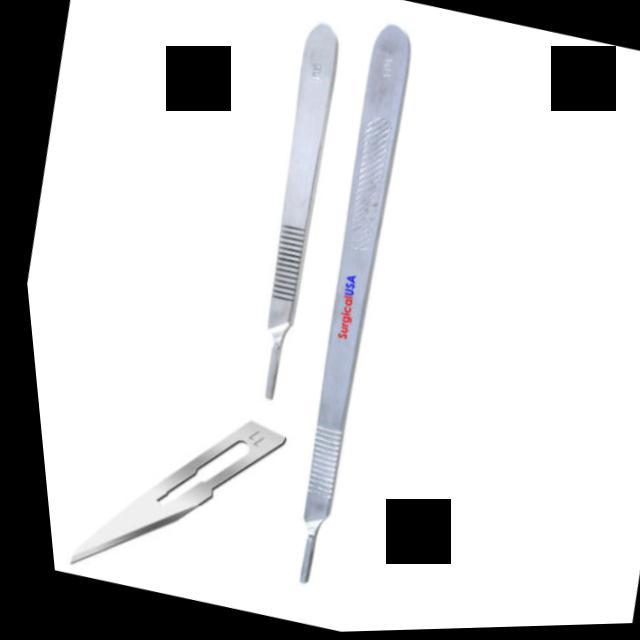Knife handle: (219, 18, 469, 602), (204, 15, 386, 421)
Surgical blade: (29, 377, 291, 619)
